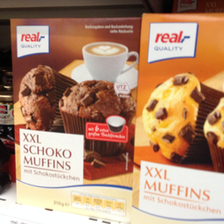cake: (9, 17, 141, 216), (134, 12, 224, 218)
